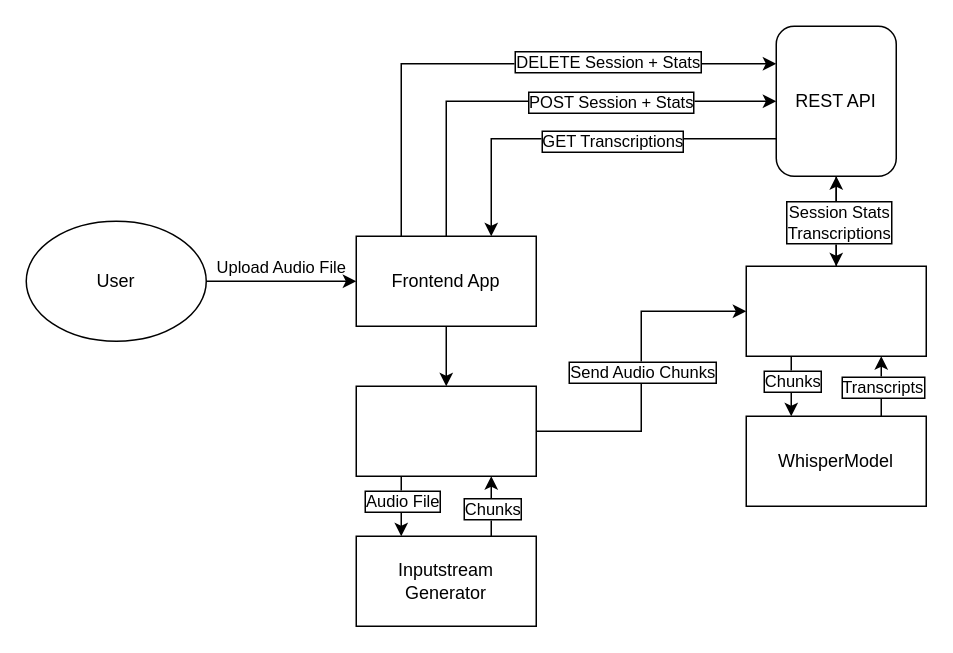
The diagram is 953 pixels wide and 653 high, and some of its shapes have lost their labels. Each missing label, with the centre of its shape:
"TranscriptionServer" belongs at (x=835, y=310).
"Websocket" belongs at (x=445, y=430).
